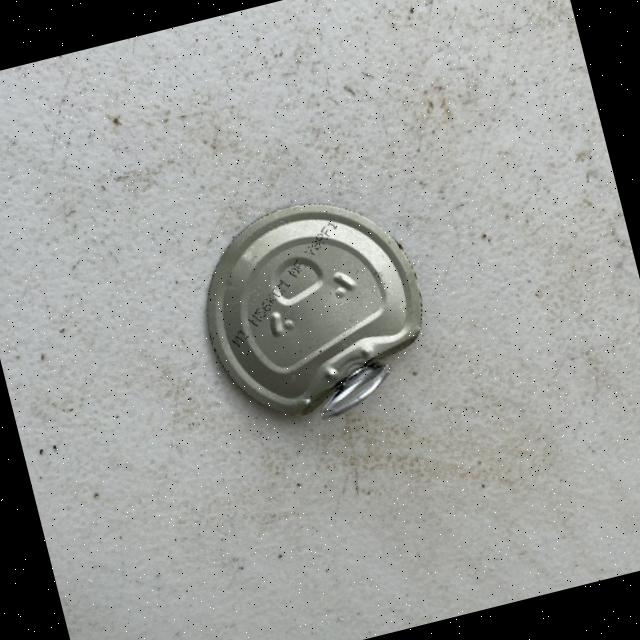metal: (181, 179, 444, 441)
